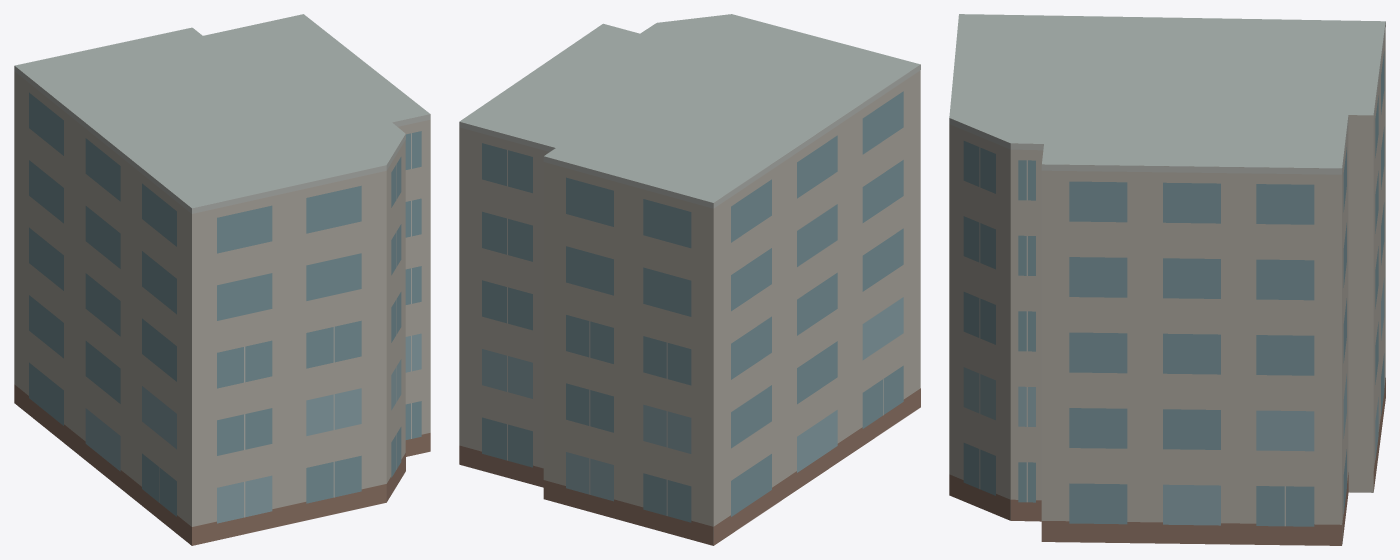
The model's file is survey-upis-32925177.glb.
The picture shows the model from 3 angles, left to right: view 1: azimuth 30°, elevation 25°; view 2: azimuth 150°, elevation 25°; view 3: azimuth 270°, elevation 25°; orthographic projection. The views are drawn at different scales.
Parts seen in each view (by area): view 1: survey-upis-32925177.tmp; view 2: survey-upis-32925177.tmp; view 3: survey-upis-32925177.tmp.
Part boxes in pixels (x1,y1,x2,y2): survey-upis-32925177.tmp: (14,14,430,545); survey-upis-32925177.tmp: (459,14,920,545); survey-upis-32925177.tmp: (949,14,1385,545).
Size of the model in its own units: 12.91 by 14.7 by 15.41.
